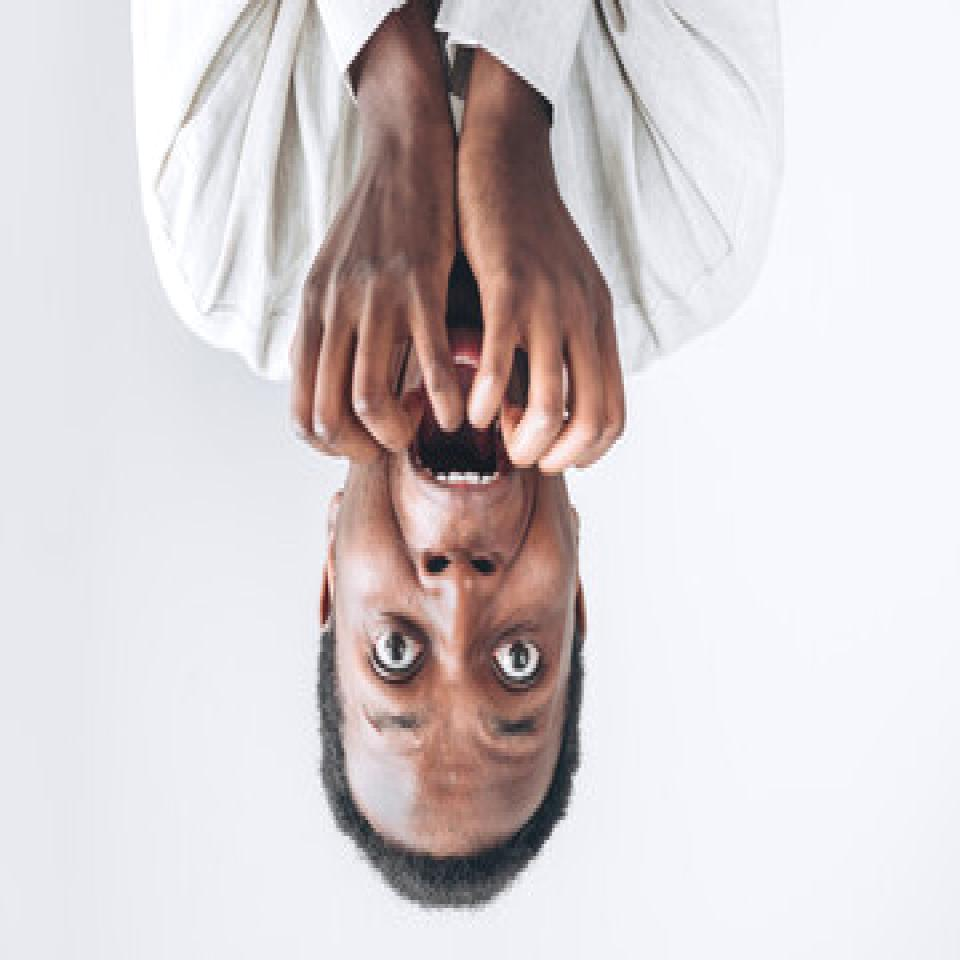Scared: (283, 134, 624, 848)
